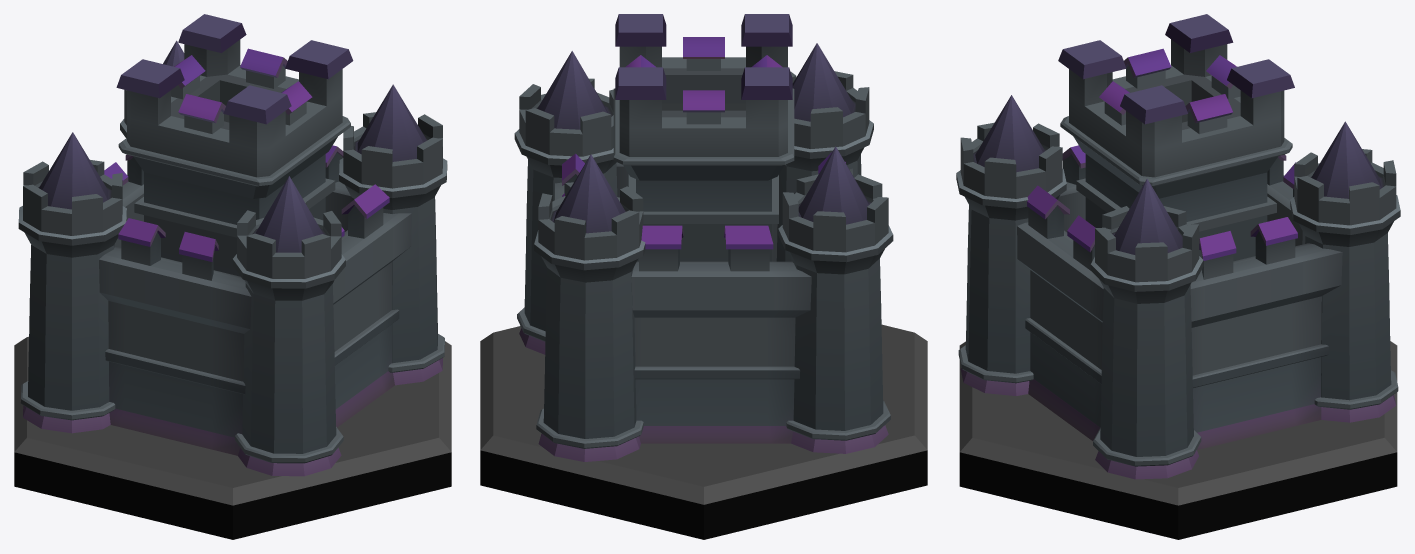
File: medievalCastle.fbx
3 views of the same model, side by side, from view 1: azimuth 30°, elevation 25°; view 2: azimuth 150°, elevation 25°; view 3: azimuth 270°, elevation 25° (orthographic). The views are drawn at different scales.
Visible parts, largest first — view 1: medievalCastle; view 2: medievalCastle; view 3: medievalCastle.
Boxes of the visible parts, x1=… form: medievalCastle: x1=14, y1=14, x2=451, y2=539; medievalCastle: x1=480, y1=14, x2=927, y2=539; medievalCastle: x1=956, y1=14, x2=1400, y2=539.
Bounding box in the file's own units: 2 × 1.62 × 1.76.
